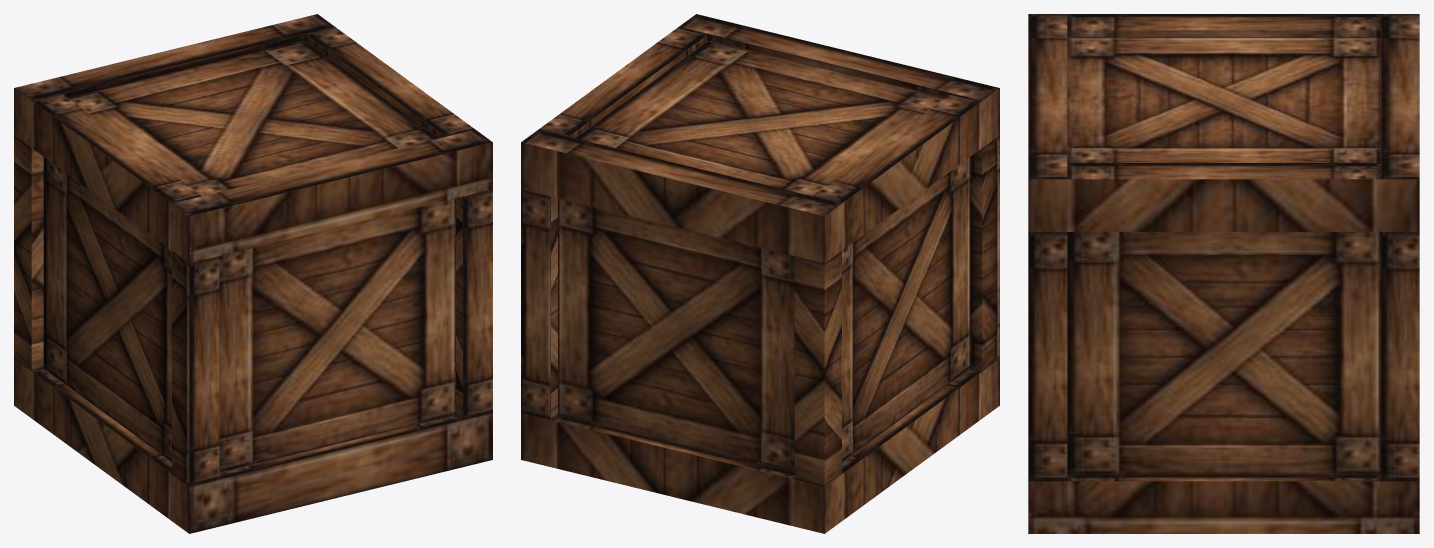
3 renders of one model, left to right at view 1: azimuth 30°, elevation 25°; view 2: azimuth 150°, elevation 25°; view 3: azimuth 270°, elevation 25°, orthographic. The views are drawn at different scales.
Visible parts, largest first — view 1: pCube2; view 2: pCube2; view 3: pCube2.
Part boxes in pixels (x1=…): pCube2: x1=14, y1=14, x2=492, y2=533; pCube2: x1=521, y1=14, x2=999, y2=533; pCube2: x1=1028, y1=14, x2=1419, y2=533.
Bounding box in the file's own units: 50 × 50 × 50.
1 material, 1 textured.
